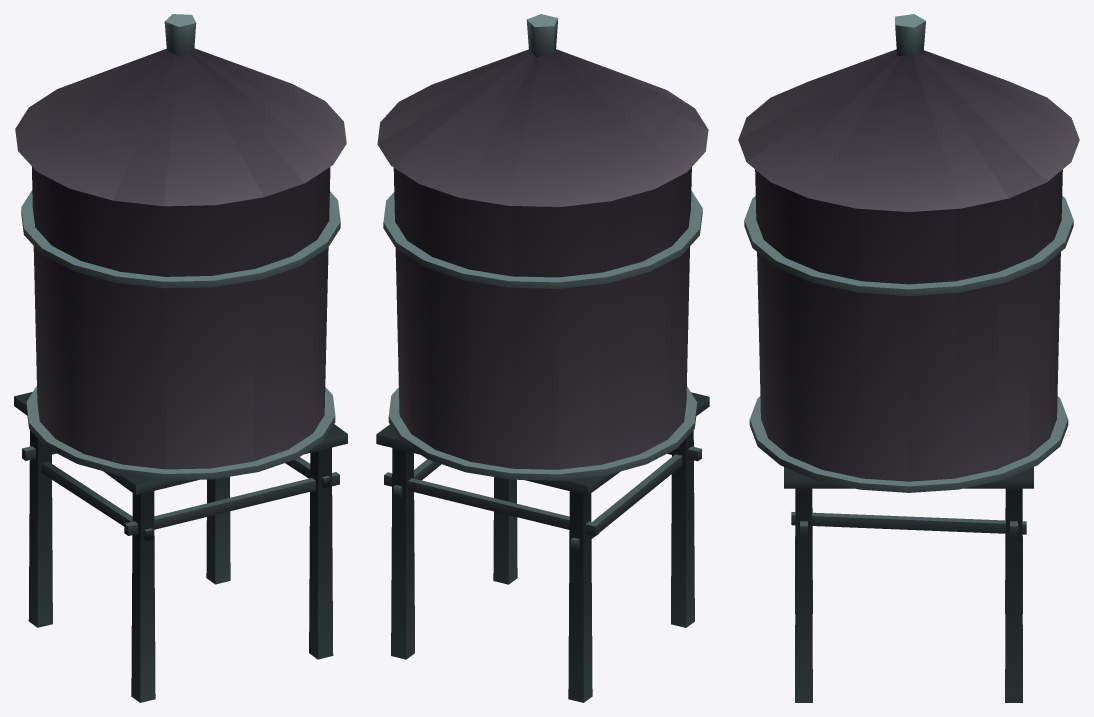
File: Water_Tank_1B.fbx
3 renders of one model, left to right at view 1: azimuth 30°, elevation 25°; view 2: azimuth 150°, elevation 25°; view 3: azimuth 270°, elevation 25°, orthographic. The views are drawn at different scales.
Visible parts, largest first — view 1: Water_Tank_1B; view 2: Water_Tank_1B; view 3: Water_Tank_1B.
Boxes of the visible parts, x1,y1,x2,y2 form: Water_Tank_1B: (14, 14, 347, 702); Water_Tank_1B: (376, 14, 709, 702); Water_Tank_1B: (738, 14, 1079, 702).
Bounding box in the file's own units: 3.25 × 6.65 × 3.25.
